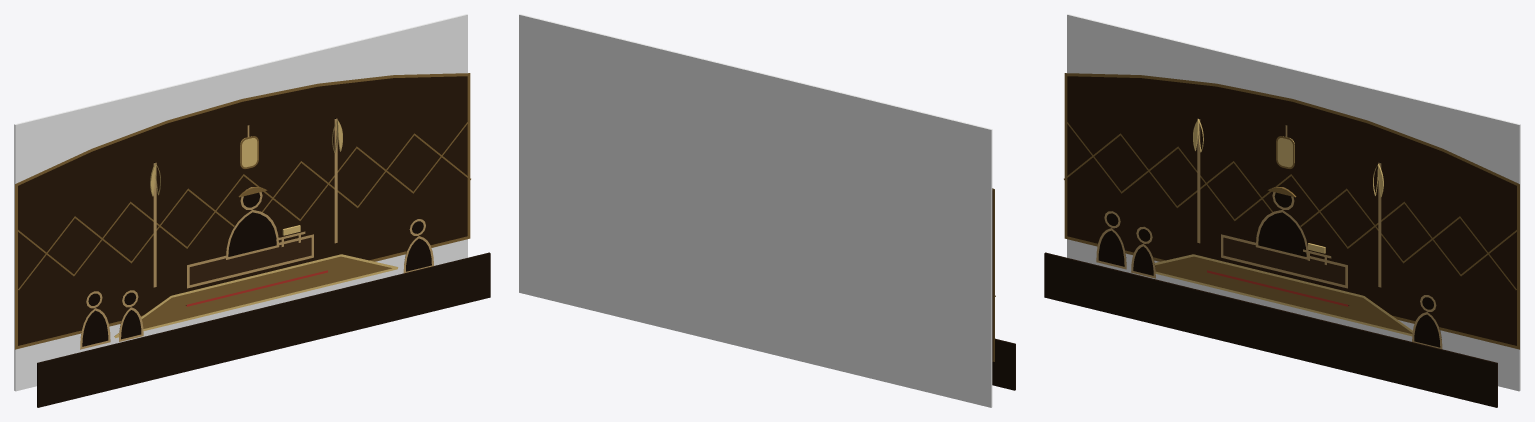
Rendered from loc-divan-darugi.glb.
3 renders of one model, left to right at view 1: azimuth 30°, elevation 25°; view 2: azimuth 150°, elevation 25°; view 3: azimuth 330°, elevation 25°, orthographic. The views are drawn at different scales.
Parts seen in each view (by area): view 1: loc-divan-darugi; view 2: loc-divan-darugi; view 3: loc-divan-darugi.
Boxes of the visible parts, bbox=[...] form: loc-divan-darugi: bbox=[14, 14, 490, 407]; loc-divan-darugi: bbox=[519, 14, 1015, 407]; loc-divan-darugi: bbox=[1044, 14, 1520, 407].
Bounding box in the file's own units: 5.37 × 3 × 0.48.
